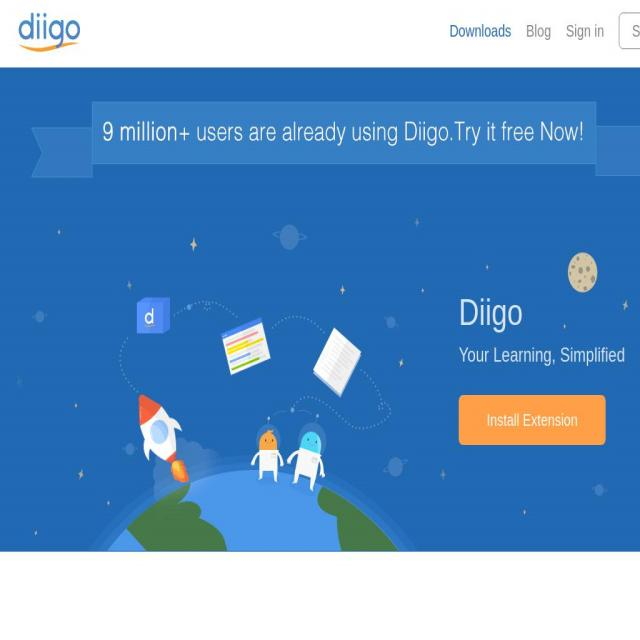download: (455, 390, 614, 450), (445, 7, 514, 50)
navigation-links: (439, 8, 611, 52)
